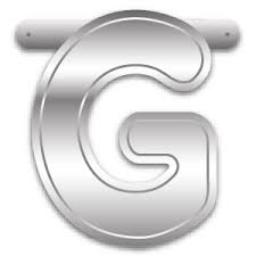g: (30, 10, 224, 246)
